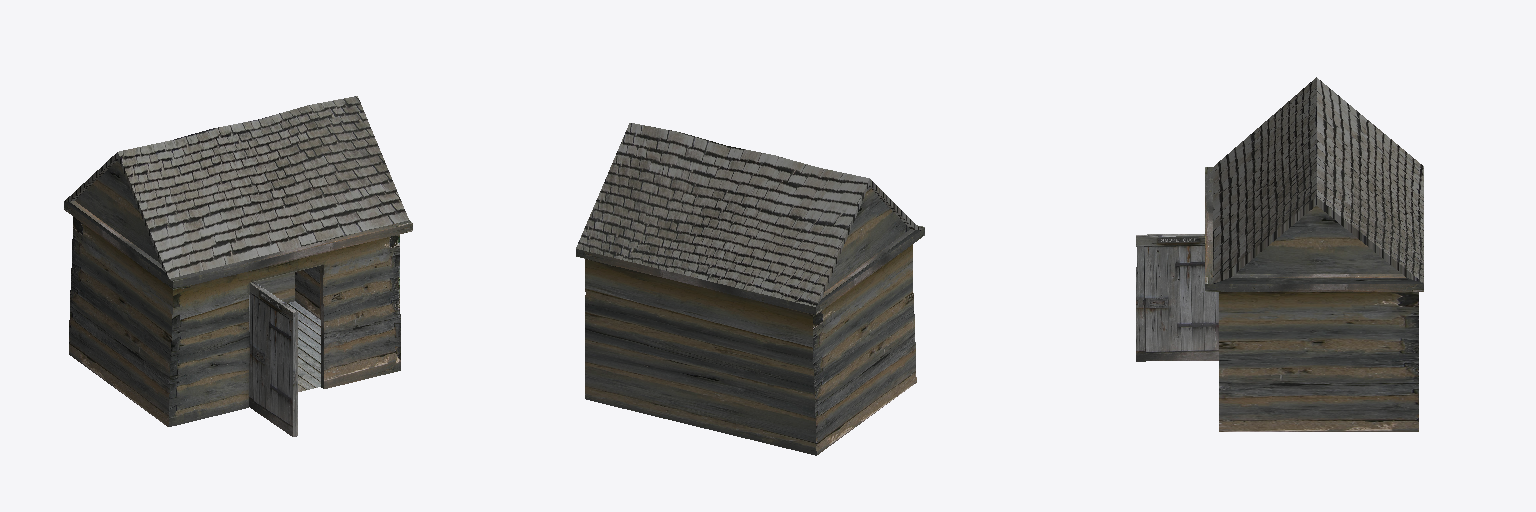
3 renders of one model, left to right at view 1: azimuth 30°, elevation 25°; view 2: azimuth 150°, elevation 25°; view 3: azimuth 270°, elevation 25°, orthographic.
Parts seen in each view (by area): view 1: smokehouse, door; view 2: smokehouse; view 3: smokehouse, door.
Part boxes in pixels (left/top/right/bottom): smokehouse: left=64, top=96, right=412, bottom=426; door: left=249, top=282, right=297, bottom=436; smokehouse: left=576, top=123, right=924, bottom=455; smokehouse: left=1205, top=77, right=1423, bottom=431; door: left=1136, top=234, right=1218, bottom=361.
Size of the model in its own units: 9.01 by 8.63 by 9.38.
Materials: 1 (1 with a texture image).